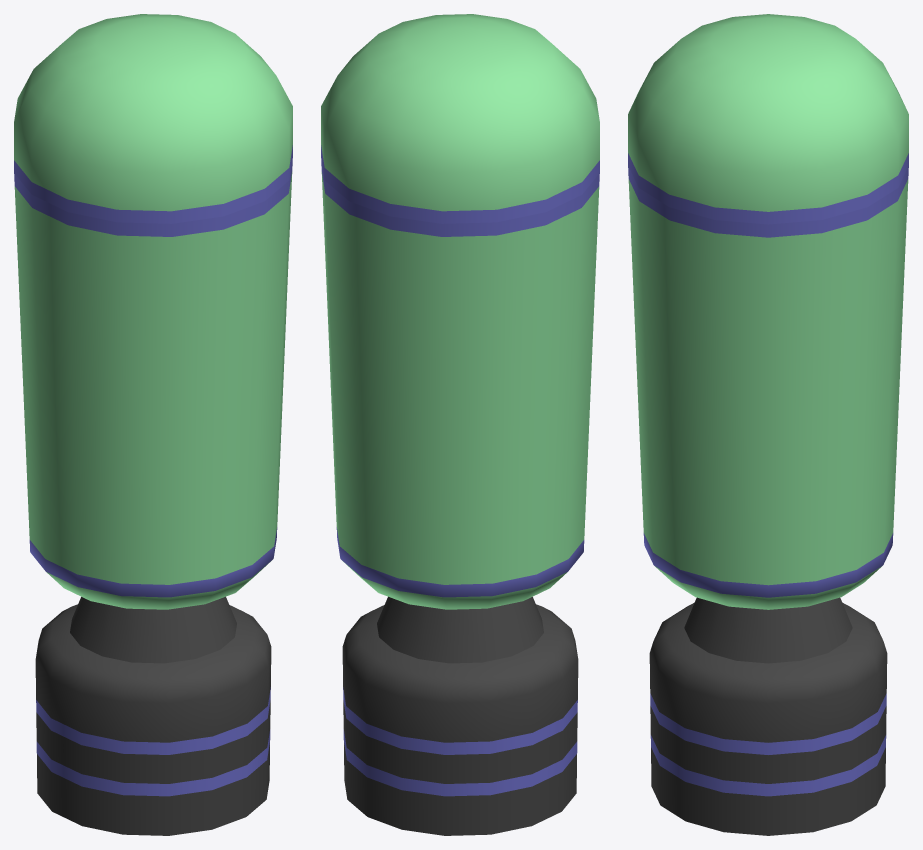
The model's file is Bomb_Lv2.fbx.
3 renders of one model, left to right at view 1: azimuth 30°, elevation 25°; view 2: azimuth 150°, elevation 25°; view 3: azimuth 270°, elevation 25°, orthographic.
Visible parts, largest first — view 1: Body_2, Motor_2, Head_2; view 2: Body_2, Motor_2, Head_2; view 3: Body_2, Motor_2, Head_2.
Boxes of the visible parts, x1=… form: Body_2: x1=14, y1=160, x2=292, y2=609; Motor_2: x1=35, y1=596, x2=271, y2=835; Head_2: x1=14, y1=14, x2=292, y2=223; Body_2: x1=321, y1=160, x2=599, y2=609; Motor_2: x1=342, y1=596, x2=578, y2=835; Head_2: x1=321, y1=14, x2=599, y2=223; Body_2: x1=628, y1=165, x2=908, y2=609; Motor_2: x1=649, y1=597, x2=887, y2=835; Head_2: x1=628, y1=14, x2=908, y2=224.
Bounding box in the file's own units: 2 × 5.89 × 2.
